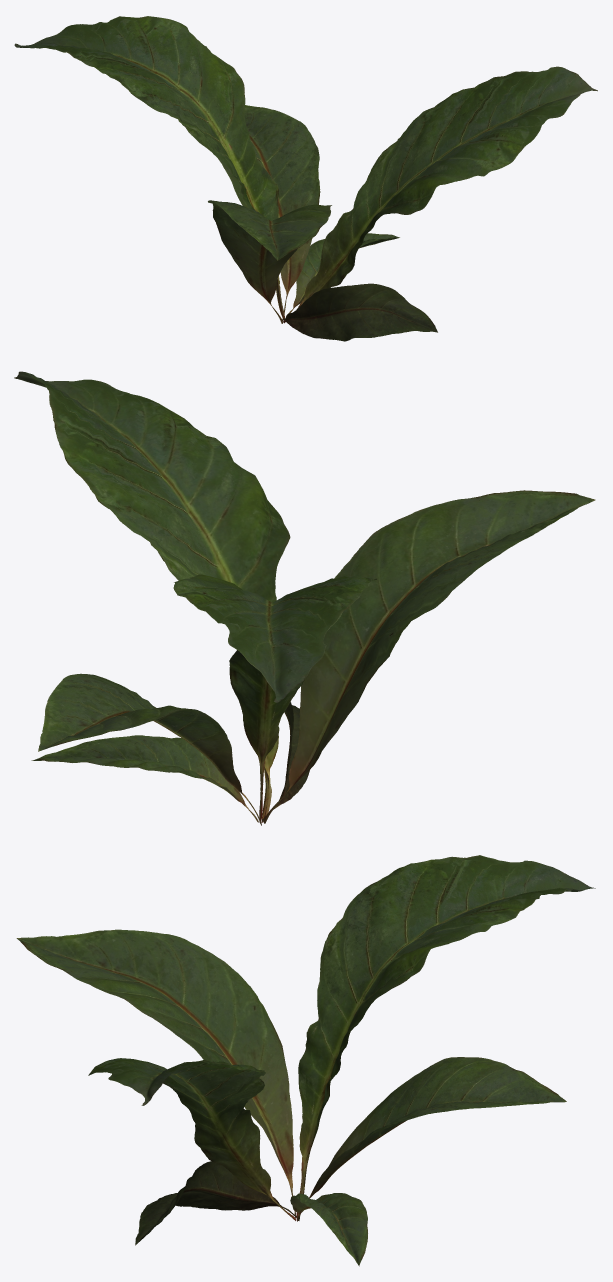
Rendered from anthurium_botany_01_05.glb.
3 renders of one model, top to bottom at view 1: azimuth 30°, elevation 25°; view 2: azimuth 150°, elevation 25°; view 3: azimuth 270°, elevation 25°, orthographic. The views are drawn at different scales.
Visible parts, largest first — view 1: anthurium_botany_01; view 2: anthurium_botany_01; view 3: anthurium_botany_01.
Boxes of the visible parts, x1,y1,x2,y2 form: anthurium_botany_01: [14, 16, 597, 341]; anthurium_botany_01: [14, 371, 595, 825]; anthurium_botany_01: [16, 855, 595, 1266].
Bounding box in the file's own units: 0.6009 × 0.3587 × 0.6574.
Materials: 1 (1 with a texture image).
